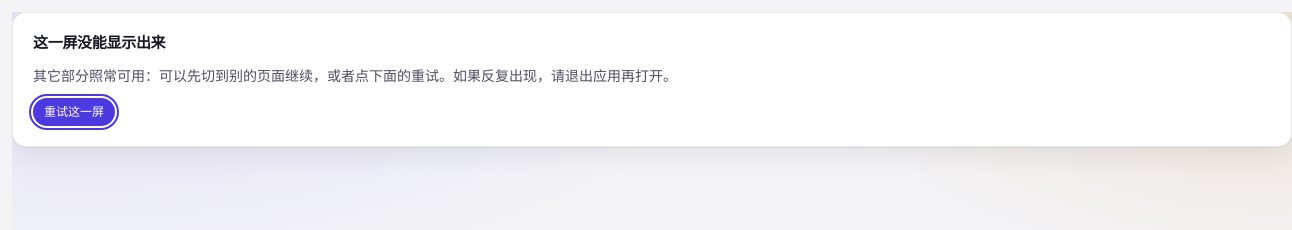
Test case: ErrorBoundary › 点「重试这一屏」会重新渲染 children，修好了就恢复正常
The image size is (1292, 230).
Click the button "重试这一屏". click: x=74, y=112
box: [33,98,115,126]
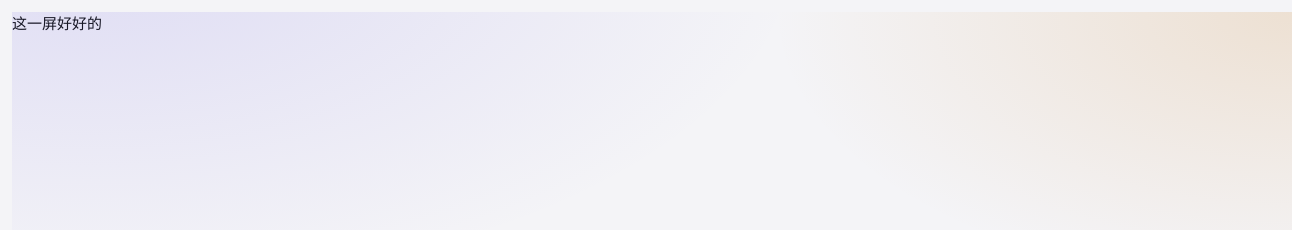
Result: the text "这一屏好好的" is shown at [12,13,102,34]
Result: the message "这一屏没能显示出来 其它部分照常可用：可以先切到别的页面继续，或者点下面的重试。如果反复出现，请退出应用再打开。 重试这一屏" is gone
